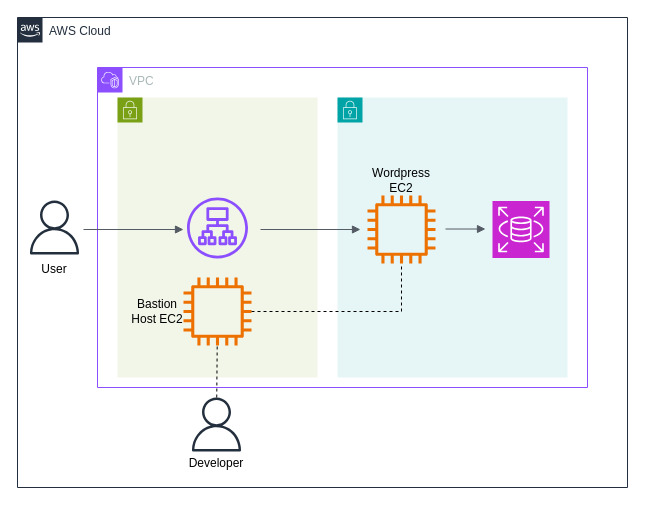
The diagram is 645 pixels wide and 505 high, and some of its shapes have lost their labels. The box of each missing label's shape, as (x1, y1, x2, y2) in pixels:
Private subnet: (336, 96, 568, 378)
Public subnet: (116, 96, 318, 378)
